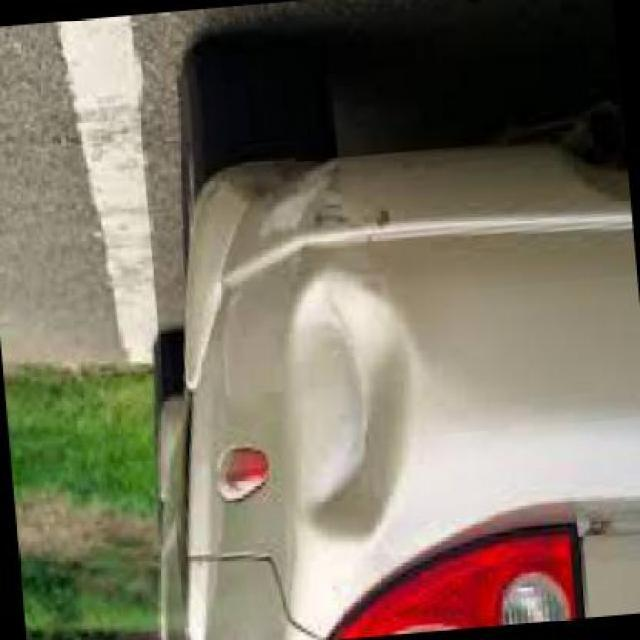dent: (288, 269, 420, 540)
